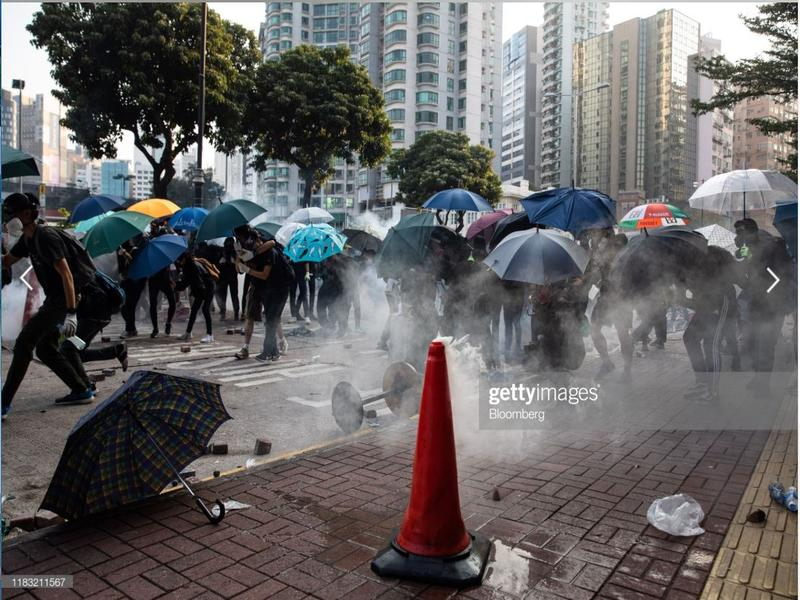Cone: (371, 342, 495, 587)
